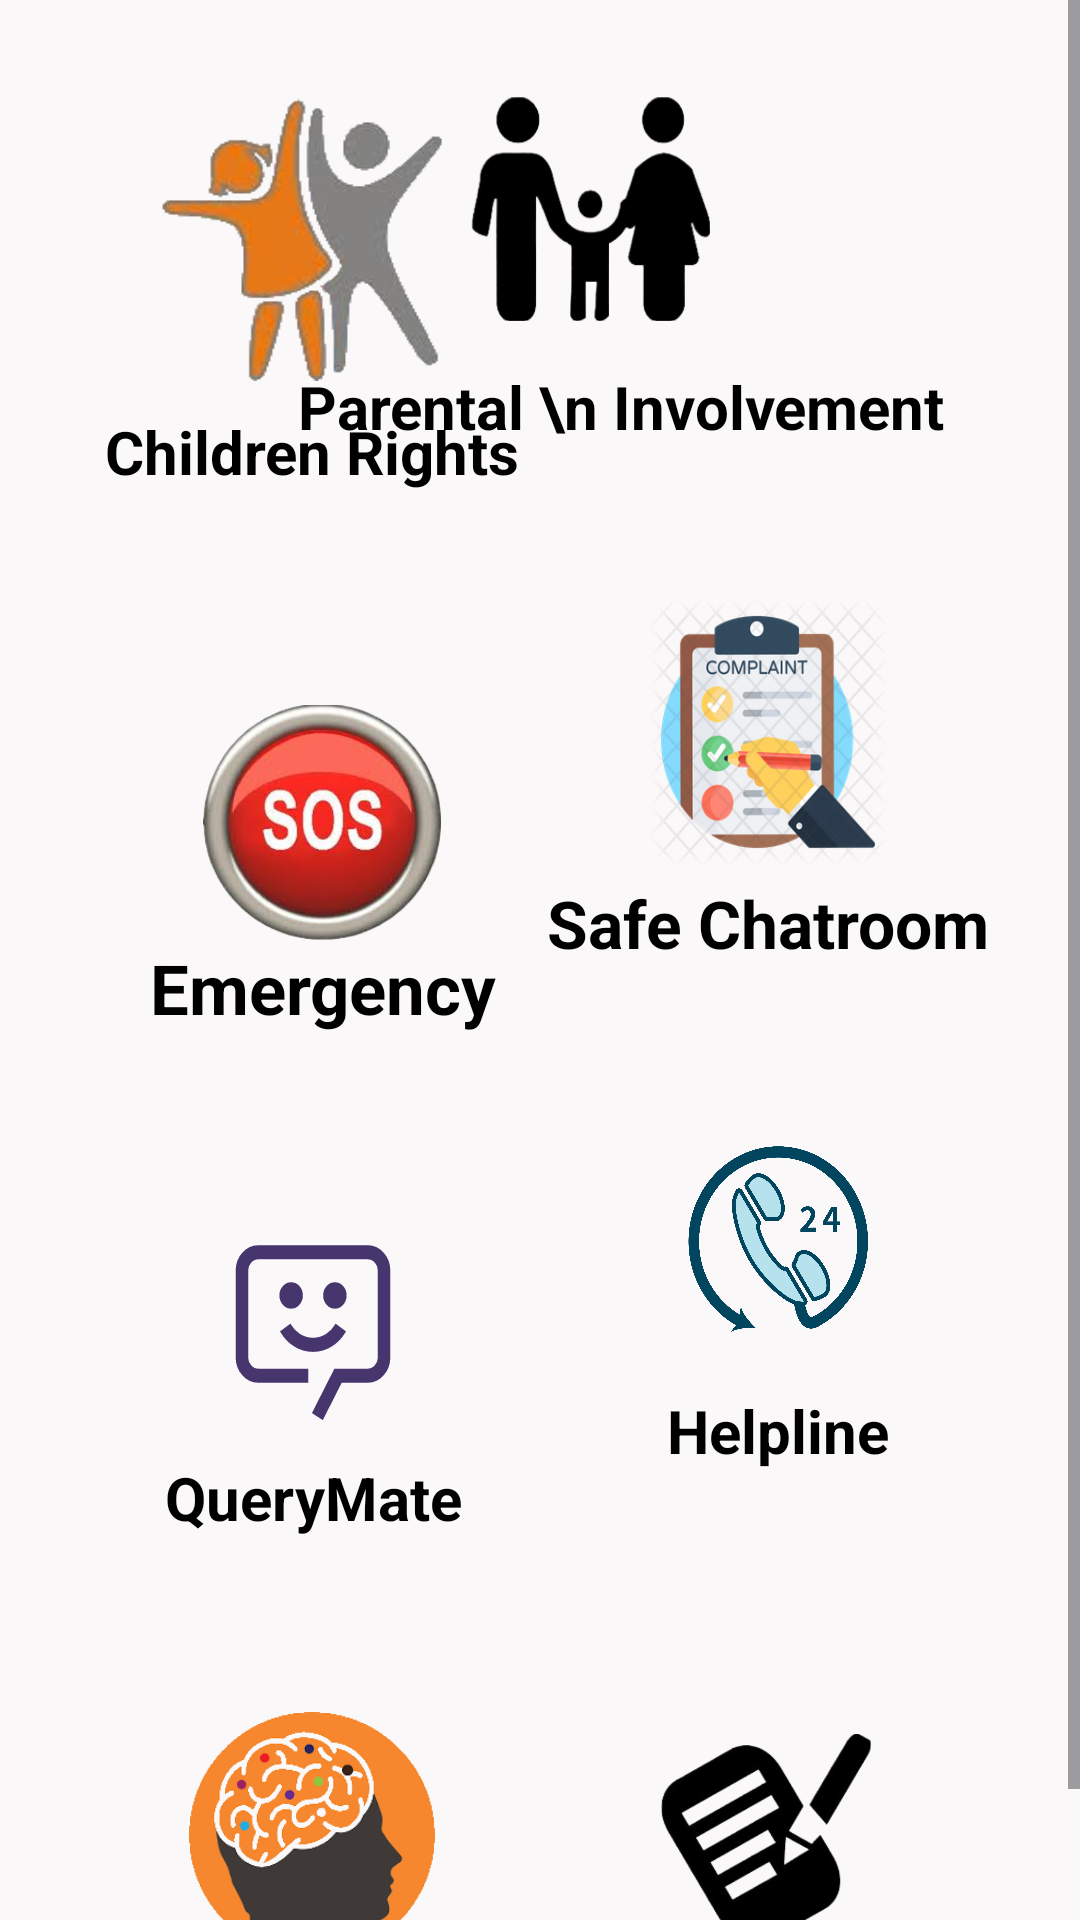

Screen size 1080 × 1920. Icon name, then its center in pixels as (x,y):
chatbot: (313,1332)
helplne: (778,1239)
